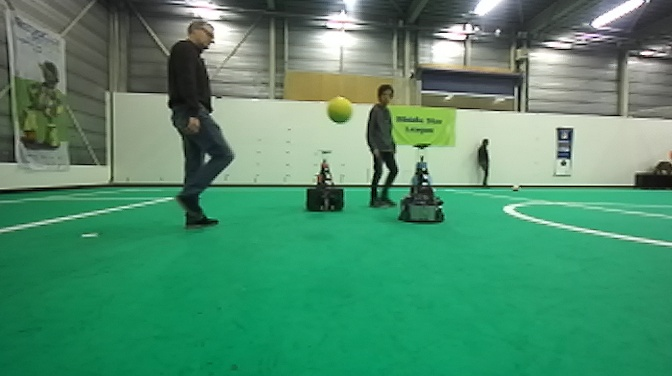ball: (325, 93, 354, 125), (509, 181, 523, 194)
human: (164, 19, 236, 230), (365, 83, 400, 210), (473, 133, 495, 189)
robot: (396, 141, 447, 225), (306, 148, 347, 212)
